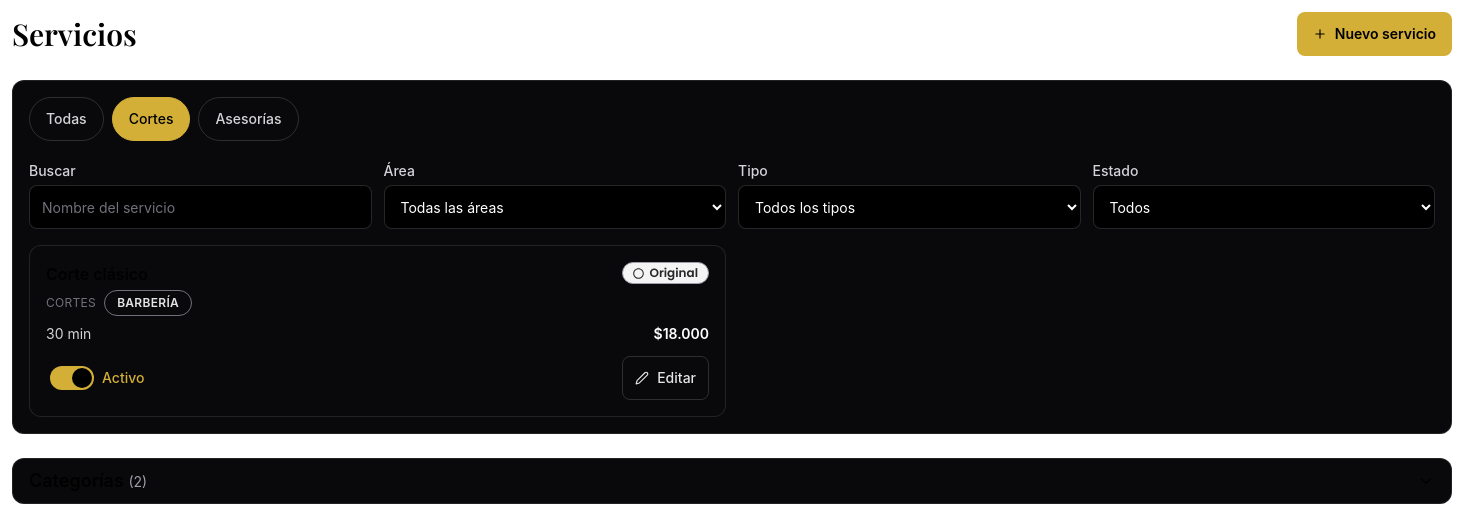
it: Servicios: área › cada servicio muestra su etiqueta de área
Expected: the element named "Categoría" is shown, [29,97,299,141]
Expected: the text "Barbería" is shown, [104,290,192,316]
Click the button "Asesorías" at (248, 119), box [198,97,299,141]
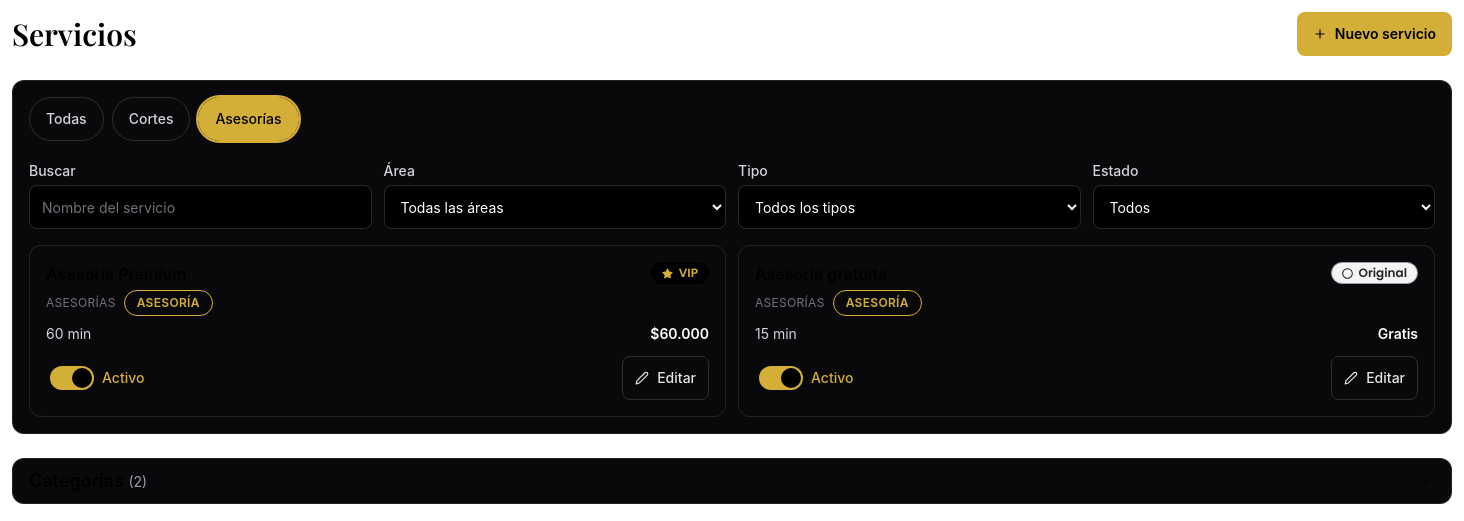
Now the text "Asesoría" below "Asesoría Premium" is shown, box [137,295,200,310]
